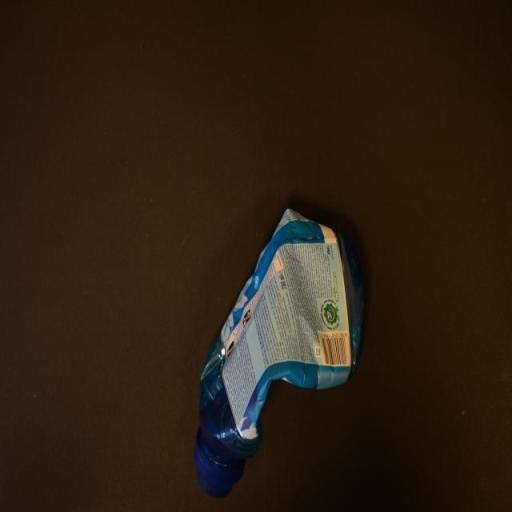plastic: (196, 201, 362, 496)
